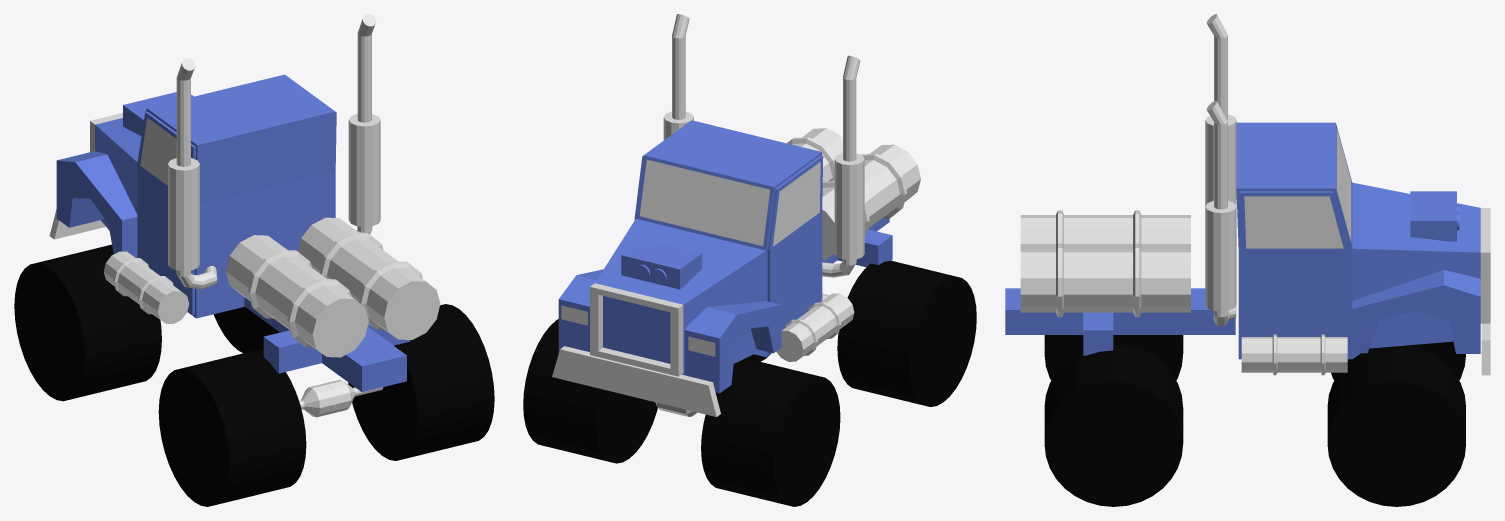
Rendered from camion.dae.
The picture shows the model from 3 angles, left to right: view 1: azimuth 30°, elevation 25°; view 2: azimuth 150°, elevation 25°; view 3: azimuth 270°, elevation 25°; orthographic projection. The views are drawn at different scales.
Parts seen in each view (by area): view 1: Camion, 02, 01, 03, 00; view 2: Camion, 02, 01, 00; view 3: Camion, 00, 03, 02, 01.
Part boxes in pixels (left/top/right/bottom): Camion: left=49, top=14, right=440, bottom=417; 02: left=158, top=350, right=306, bottom=506; 01: left=14, top=244, right=161, bottom=401; 03: left=348, top=304, right=494, bottom=460; 00: left=213, top=306, right=279, bottom=353; Camion: left=552, top=14, right=920, bottom=416; 02: left=837, top=260, right=976, bottom=406; 01: left=701, top=358, right=840, bottom=506; 00: left=523, top=319, right=657, bottom=463; Camion: left=1005, top=14, right=1490, bottom=375; 00: left=1327, top=345, right=1465, bottom=506; 03: left=1044, top=344, right=1183, bottom=506; 02: left=1044, top=335, right=1183, bottom=380; 01: left=1331, top=341, right=1465, bottom=380.
Bounding box in the file's own units: 4.43 × 7.17 × 6.29.
